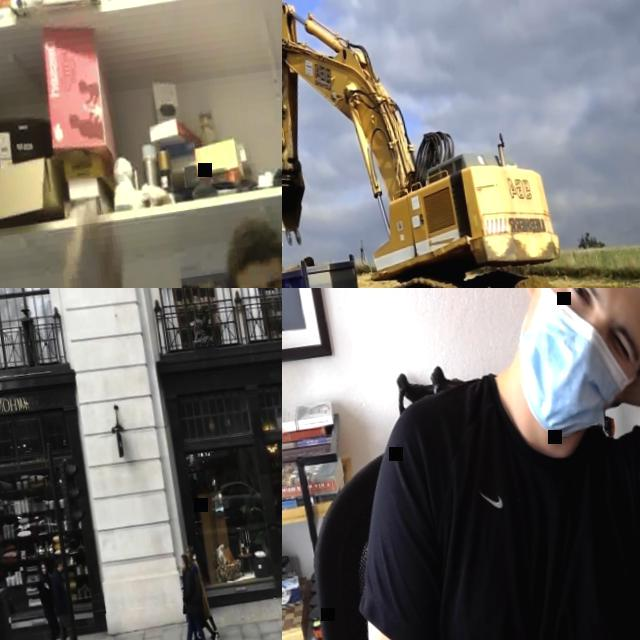machinery: (282, 0, 570, 288)
mask: (502, 288, 640, 444)
no_helmet: (220, 217, 282, 279), (184, 542, 194, 556), (178, 552, 186, 563), (54, 557, 62, 566), (184, 553, 190, 563), (37, 559, 44, 567)
no_mask: (179, 560, 184, 570), (56, 566, 62, 572), (40, 570, 45, 576)
no_vest: (397, 357, 640, 640), (181, 570, 200, 620), (191, 556, 206, 606), (190, 568, 202, 613)
person: (289, 288, 640, 640), (43, 90, 282, 288), (181, 540, 220, 640), (165, 553, 208, 640), (176, 552, 218, 640), (44, 556, 80, 640), (32, 556, 64, 640)
